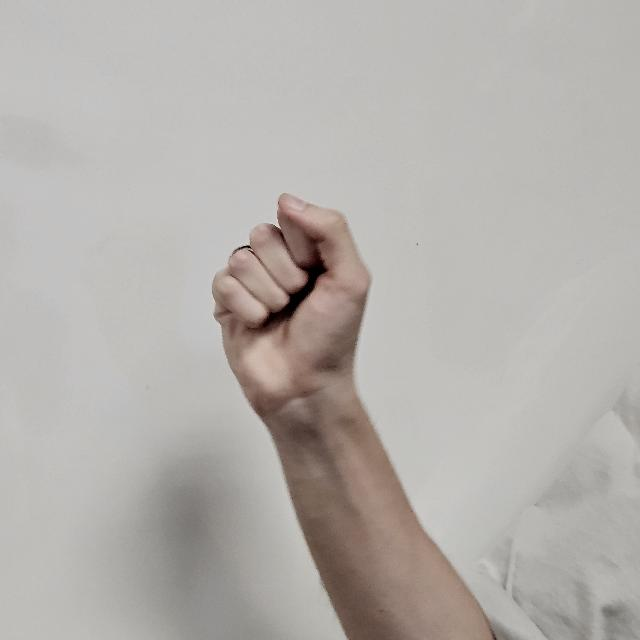Quadro: (212, 189, 370, 403)
